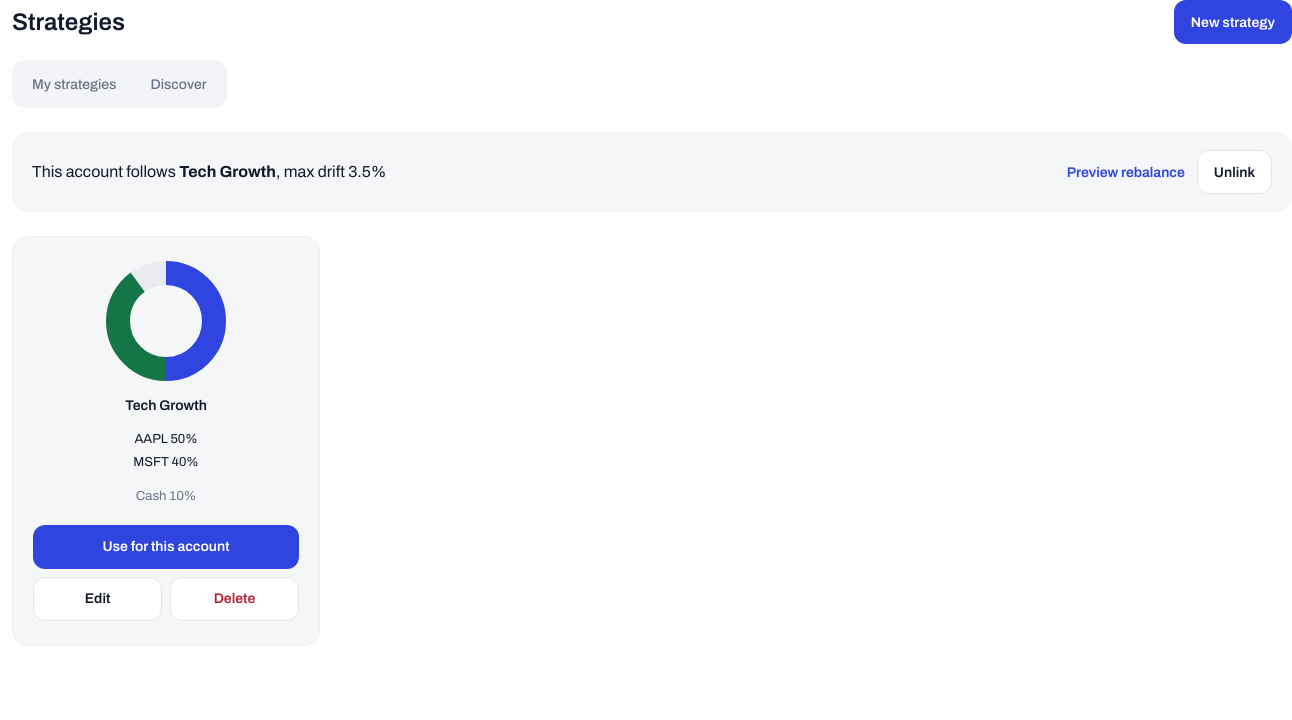
PiesComponent › unlinks the pie and shows the no-pie header
Click the button "Unlink": (1234, 172) left=1197, top=150, right=1272, bottom=194
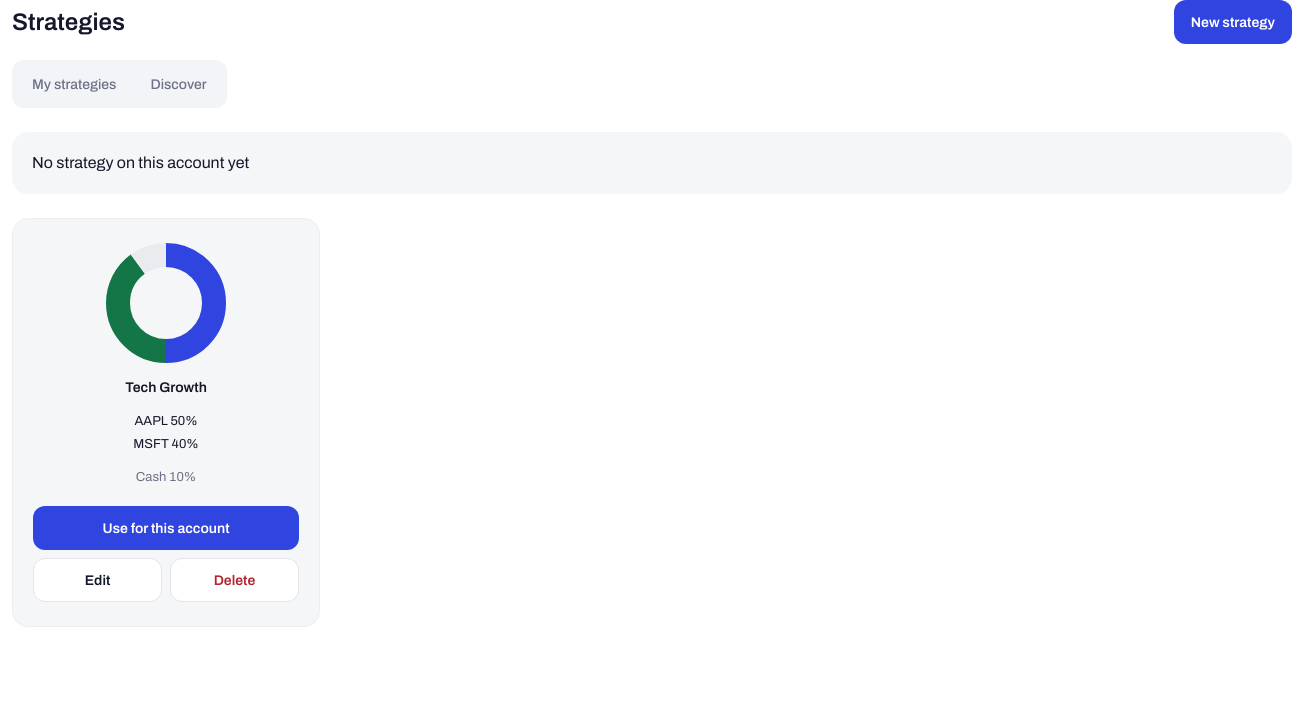
Check: the element with class "header" reads "No strategy on this account yet", box left=32, top=154, right=249, bottom=171
